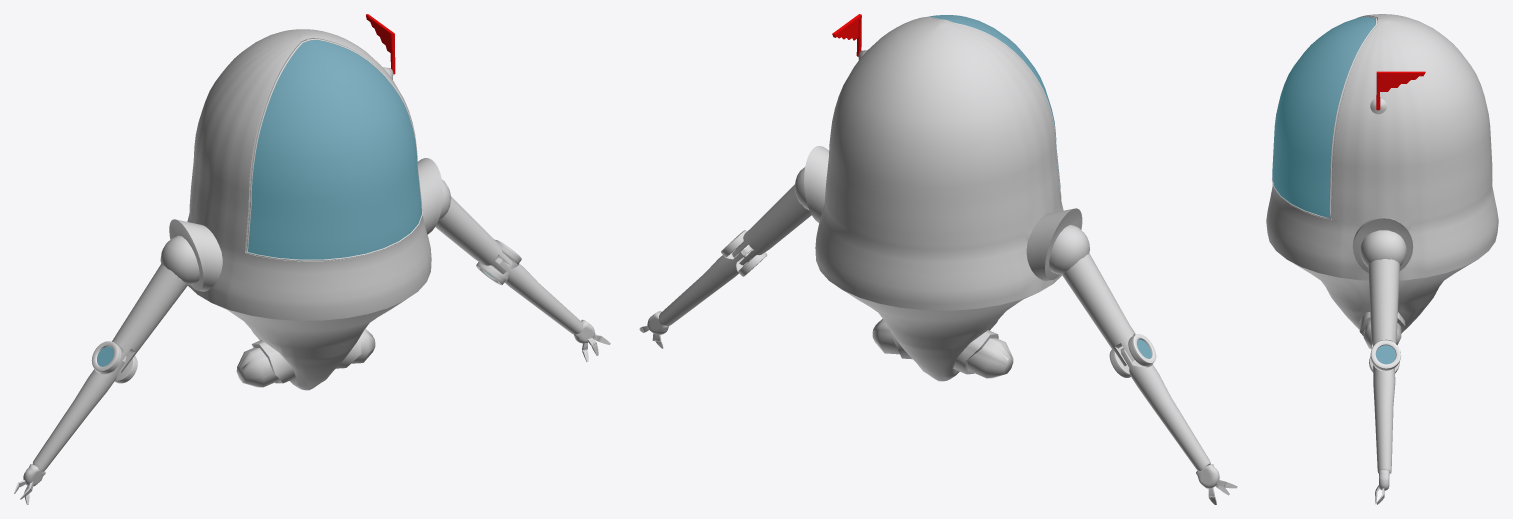
File: Dash Bot.fbx
The picture shows the model from 3 angles, left to right: view 1: azimuth 30°, elevation 25°; view 2: azimuth 150°, elevation 25°; view 3: azimuth 270°, elevation 25°; orthographic projection. The views are drawn at different scales.
Visible parts, largest first — view 1: Dash Bot Body, Face Door, Upper Arm001, Lower Arm001, Upper Arm, Lower Arm, Shoulder Pivot001, Right Arm; view 2: Dash Bot Body, Upper Arm001, Lower Arm001, Upper Arm, Lower Arm, Shoulder Pivot001, Face Door, Right Arm; view 3: Dash Bot Body, Face Door, Upper Arm, Lower Arm, Shoulder Pivot, Elbow Pivot, Flag.
Part boxes in pixels (x1=…): Dash Bot Body: x1=169, y1=29, x2=443, y2=390; Face Door: x1=246, y1=38, x2=422, y2=261; Upper Arm001: x1=112, y1=264, x2=187, y2=372; Lower Arm001: x1=33, y1=356, x2=126, y2=471; Upper Arm: x1=435, y1=196, x2=512, y2=273; Lower Arm: x1=495, y1=257, x2=582, y2=334; Shoulder Pivot001: x1=160, y1=235, x2=199, y2=284; Right Arm: x1=91, y1=341, x2=137, y2=383; Dash Bot Body: x1=804, y1=17, x2=1082, y2=381; Upper Arm001: x1=1062, y1=253, x2=1135, y2=366; Lower Arm001: x1=1120, y1=348, x2=1210, y2=470; Upper Arm: x1=732, y1=184, x2=811, y2=265; Lower Arm: x1=658, y1=246, x2=751, y2=325; Shoulder Pivot001: x1=1049, y1=225, x2=1089, y2=274; Face Door: x1=922, y1=15, x2=1061, y2=199; Right Arm: x1=1109, y1=334, x2=1156, y2=377; Dash Bot Body: x1=1266, y1=14, x2=1498, y2=349; Face Door: x1=1272, y1=16, x2=1377, y2=219; Upper Arm: x1=1368, y1=259, x2=1399, y2=347; Lower Arm: x1=1373, y1=364, x2=1395, y2=473; Shoulder Pivot: x1=1360, y1=230, x2=1406, y2=267; Elbow Pivot: x1=1369, y1=340, x2=1401, y2=373; Flag: x1=1376, y1=71, x2=1425, y2=110.
Bounding box in the file's own units: 164 × 107 × 60.67.
